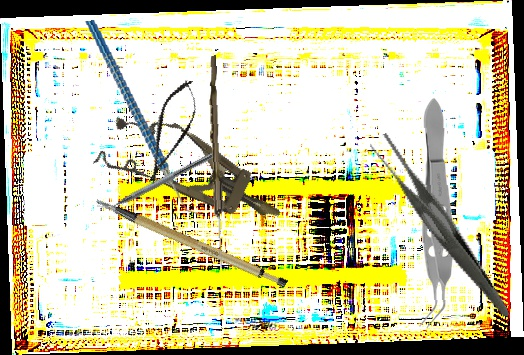Chopper: (84, 8, 206, 228), (95, 143, 217, 218)
Dressing Forceps: (367, 114, 510, 340)
Micro Scissor: (135, 74, 207, 190)
Scalpel Handle: (95, 169, 290, 312)
Speculum: (92, 98, 296, 247)
Surgical Spoon: (205, 55, 228, 269)
Tissue Forceps: (413, 96, 457, 332)
